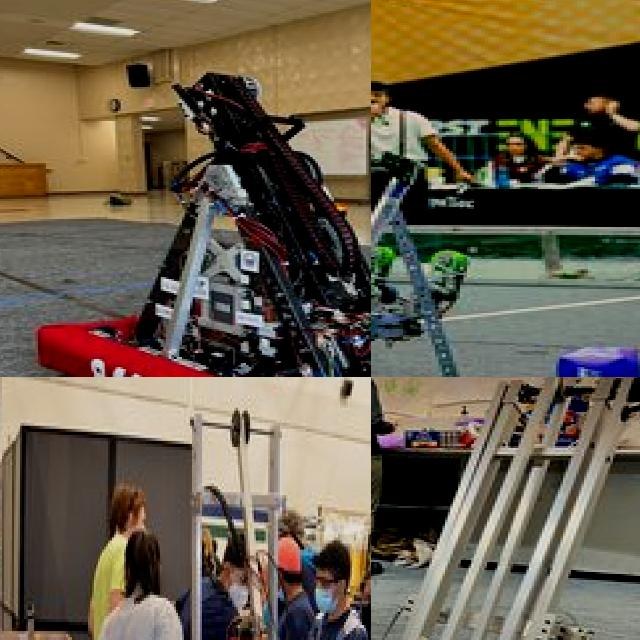FRC-Robots: (35, 45, 371, 377), (371, 377, 640, 640), (371, 145, 578, 377), (177, 419, 371, 640)
